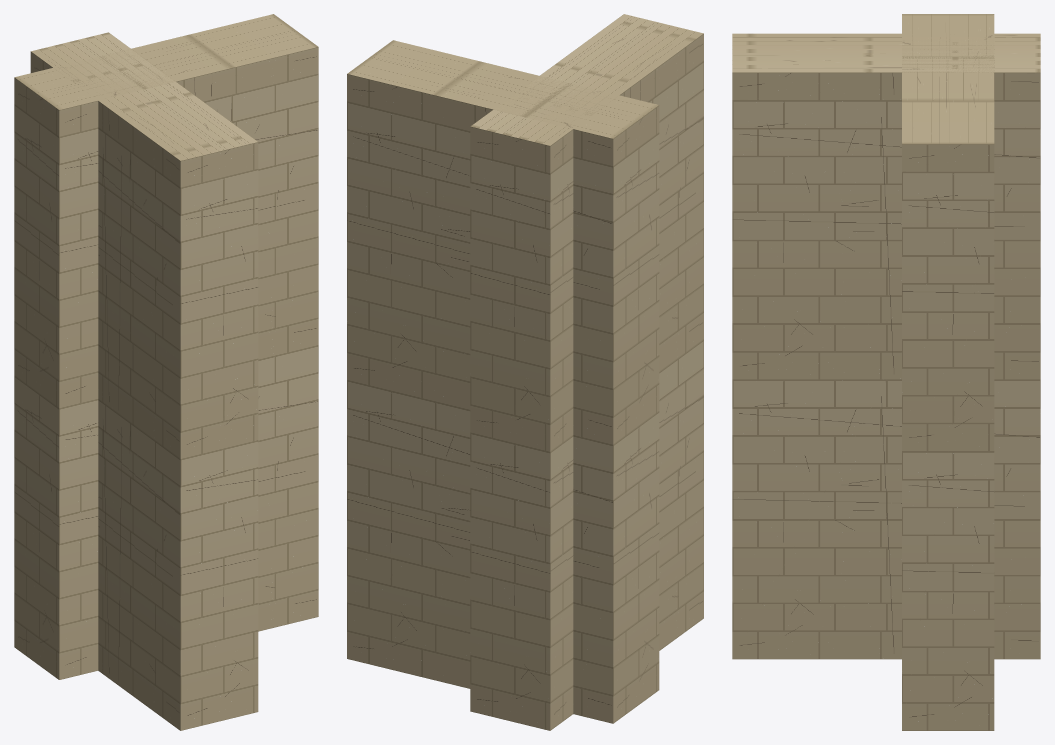
File: corner_inner_1m.obj
3 views of the same model, side by side, from view 1: azimuth 30°, elevation 25°; view 2: azimuth 150°, elevation 25°; view 3: azimuth 270°, elevation 25° (orthographic). The views are drawn at different scales.
Visible parts, largest first — view 1: corner_inner_1m; view 2: corner_inner_1m; view 3: corner_inner_1m.
Part boxes in pixels (left/top/right/bottom): corner_inner_1m: left=14, top=14, right=318, bottom=730; corner_inner_1m: left=347, top=14, right=703, bottom=730; corner_inner_1m: left=732, top=14, right=1040, bottom=730.
Size of the model in its own units: 1 by 2.1 by 1.
1 material, 1 textured.
